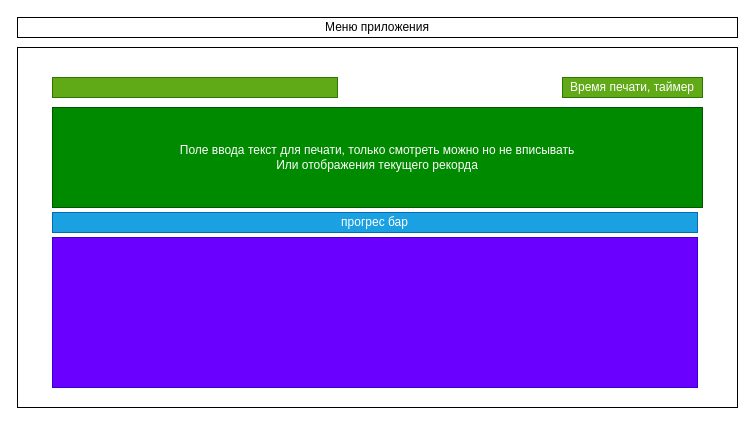
The diagram is 755 pixels wide and 425 high, and some of its shapes have lost their labels. The centre of each missing label's shape, as x and y in pixels:
"Заголовк занятия" belongs at point (195, 87).
"Клавиатура, активная, моделька настоящей клавиатуры" belongs at point (375, 312).
